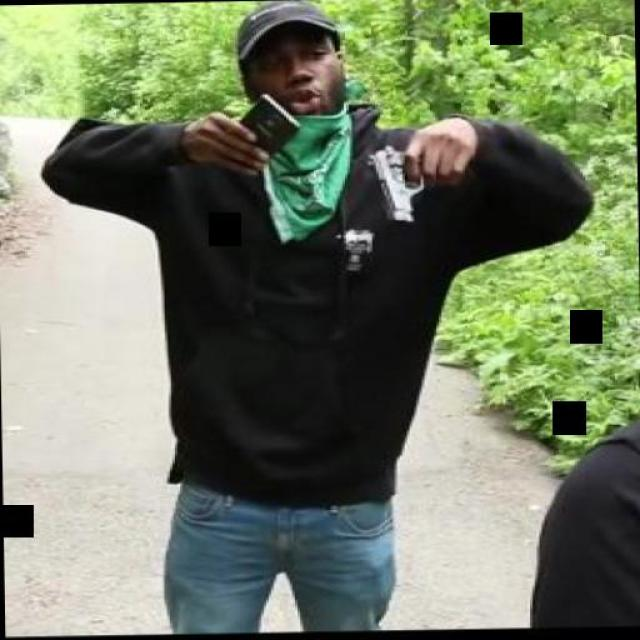gun: (365, 138, 469, 228)
